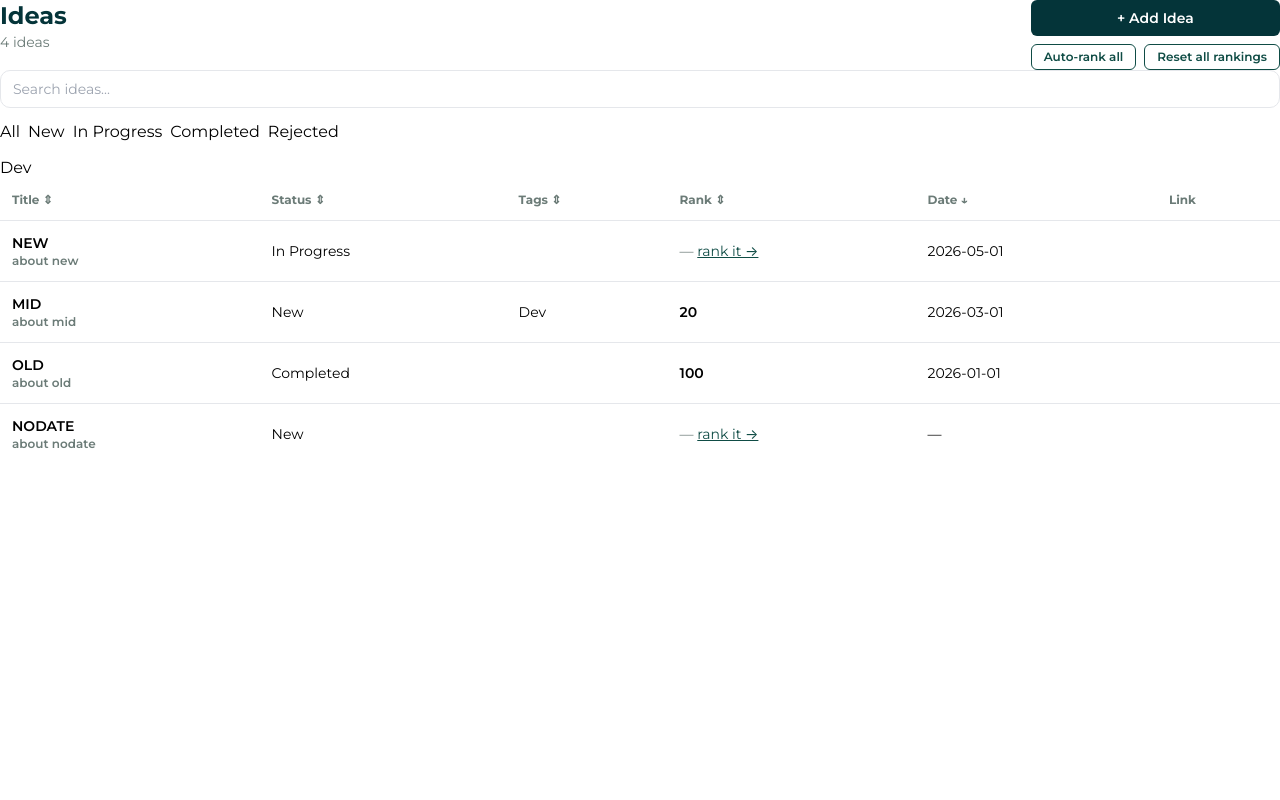
Test: Add Idea › surfaces createIdea errors on the preview
The width and height of the screenshot is (1280, 800).
expect the row with test id "row-old" is shown: met, box [0,342,1279,404]
Click the button "+ Add Idea": [1155, 18] box [1031,0,1279,36]
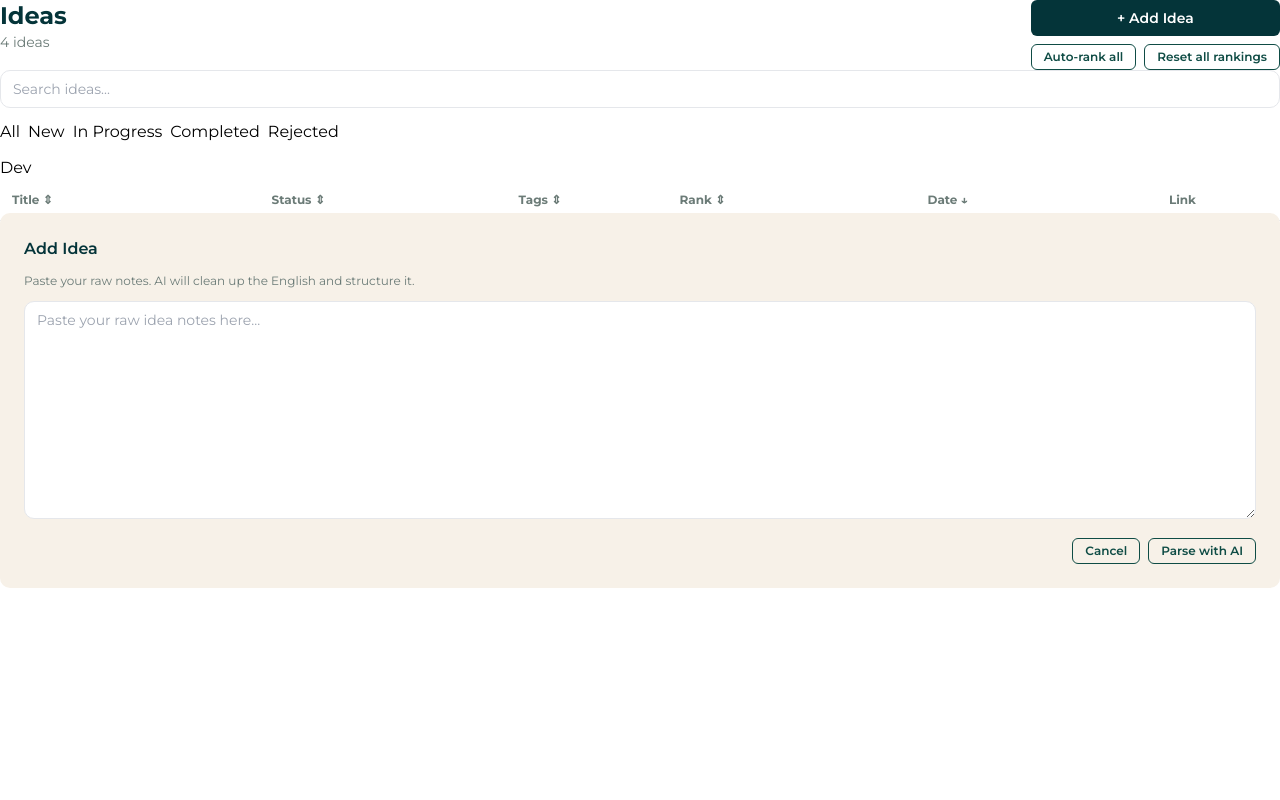
In the text box with placeholder "Paste your raw idea notes here...": [640, 410] box [24,300,1256,518], type "raw notes"
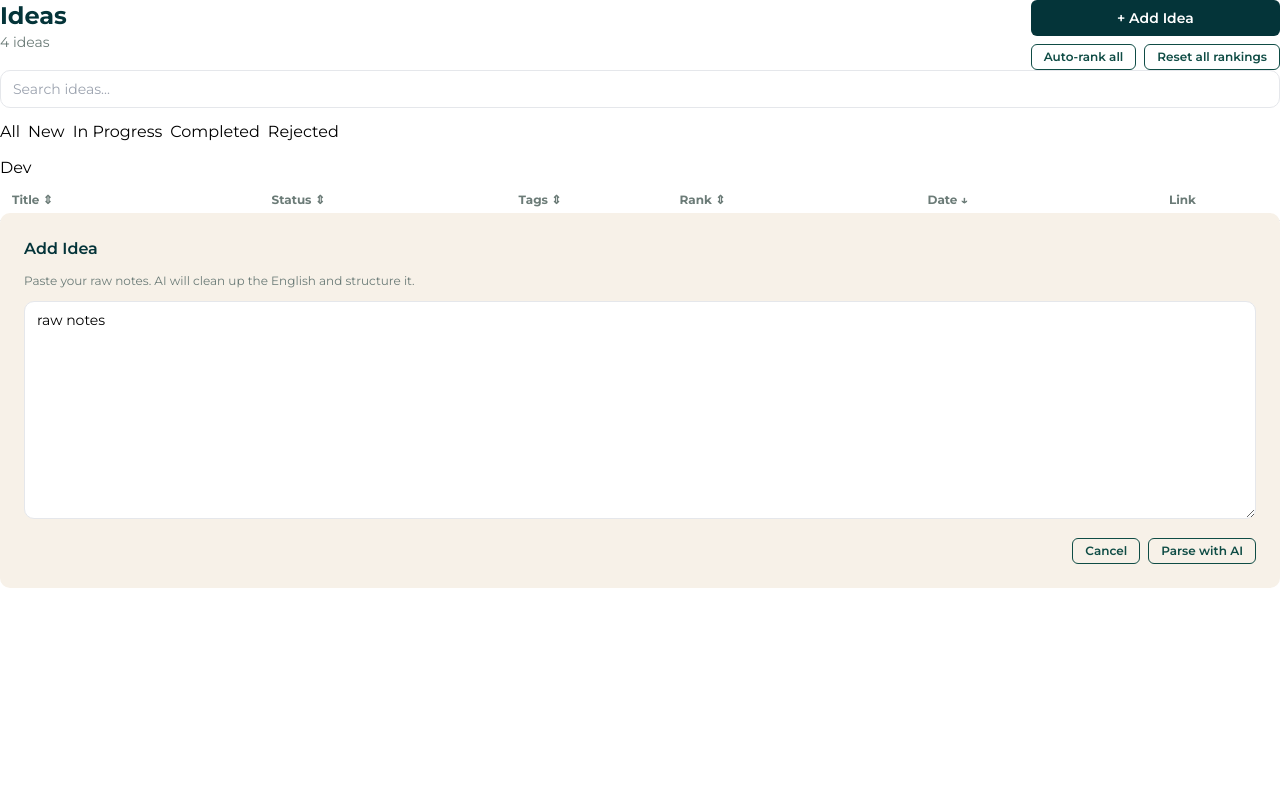
Click the button "Parse with AI": [1202, 550] box [1148,538,1256,564]
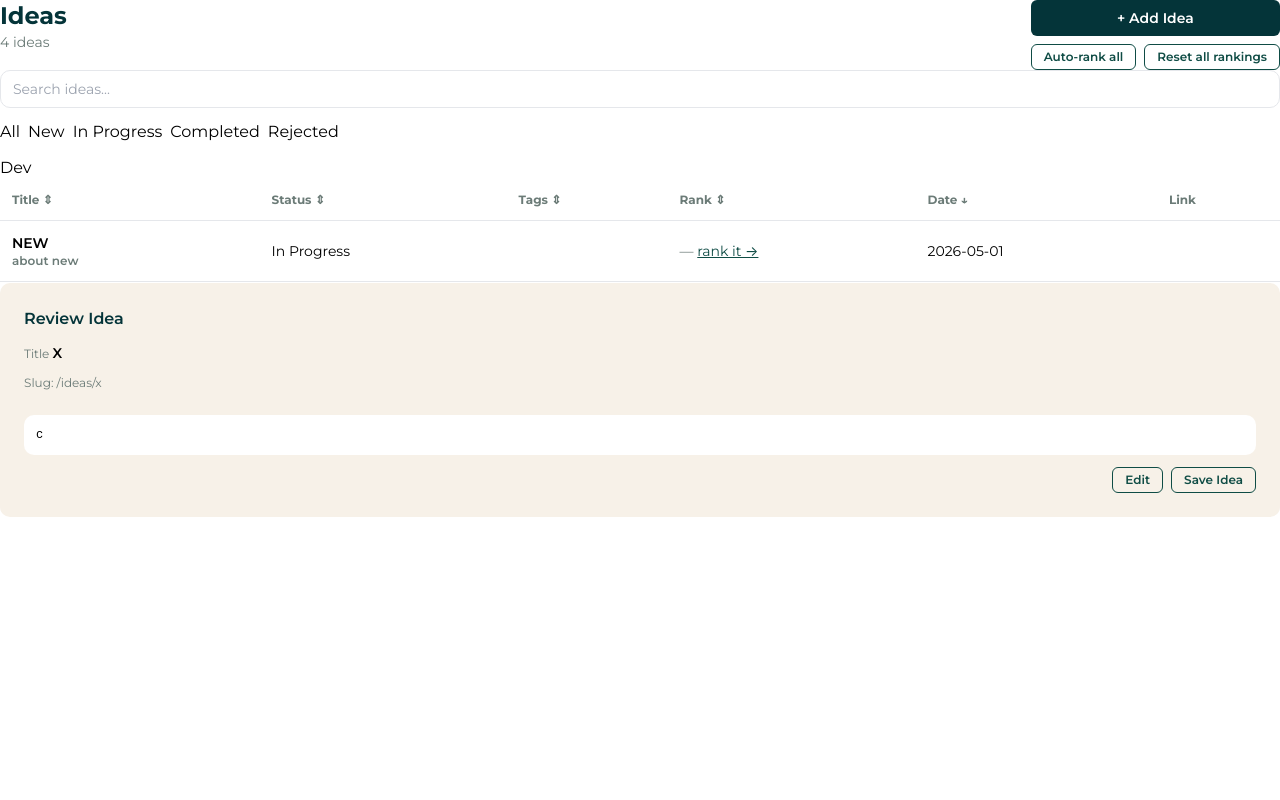
Click the button "Save Idea": [1214, 480] box [1171,467,1256,493]
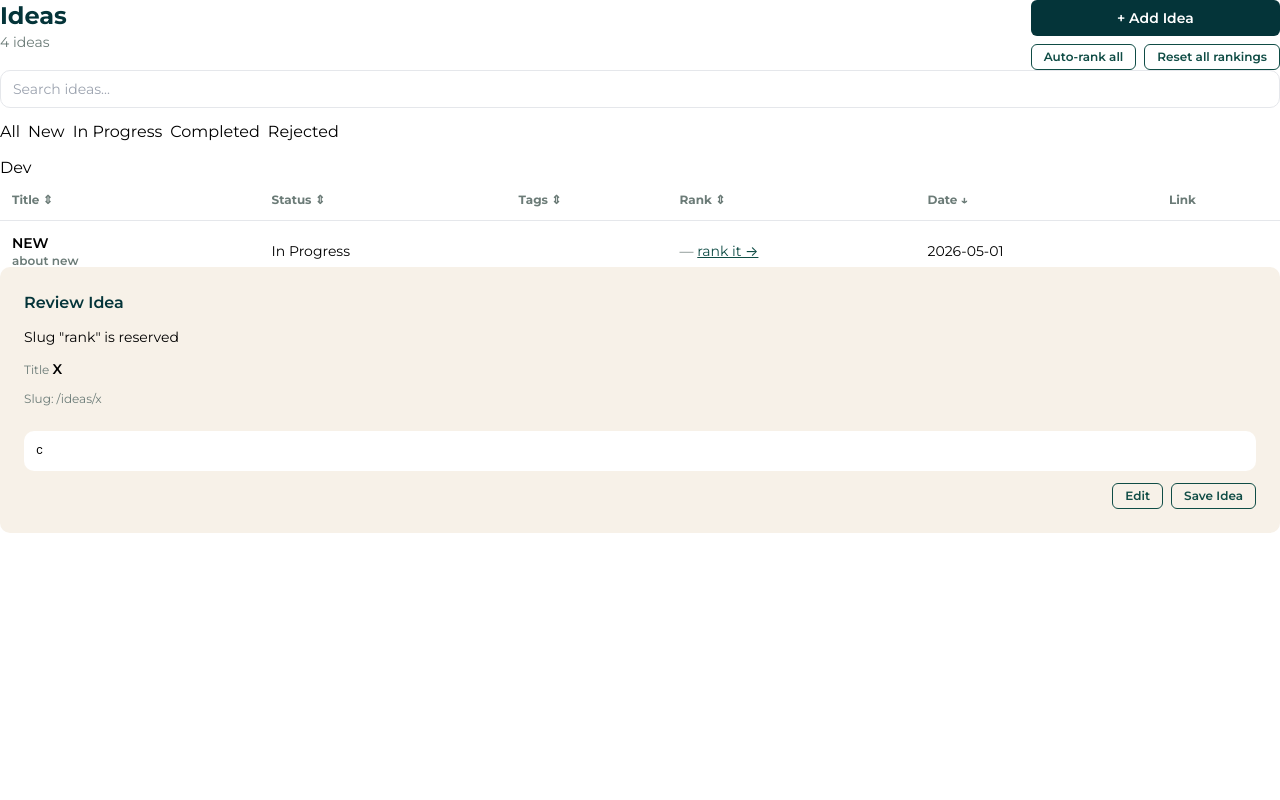
expect the message reads "Slug \"rank\" is reserved": met, box [24,328,179,346]
